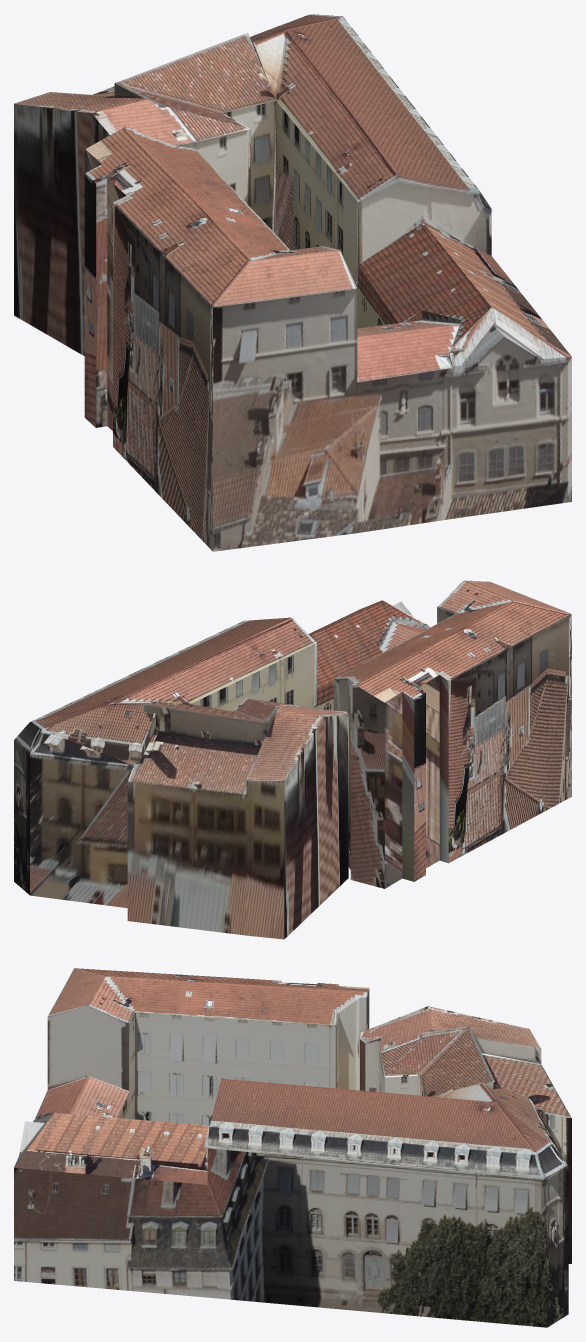
The picture shows the model from 3 angles, top to bottom: view 1: azimuth 30°, elevation 25°; view 2: azimuth 150°, elevation 25°; view 3: azimuth 270°, elevation 25°; orthographic projection. The views are drawn at different scales.
Parts seen in each view (by area): view 1: Z_UP; view 2: Z_UP; view 3: Z_UP.
Boxes of the visible parts, x1,y1,x2,y2 form: Z_UP: (14,14,571,551); Z_UP: (14,580,571,939); Z_UP: (14,968,571,1327).
Bounding box in the file's own units: 36.66 × 20.75 × 51.21.
2 materials, 1 textured.
